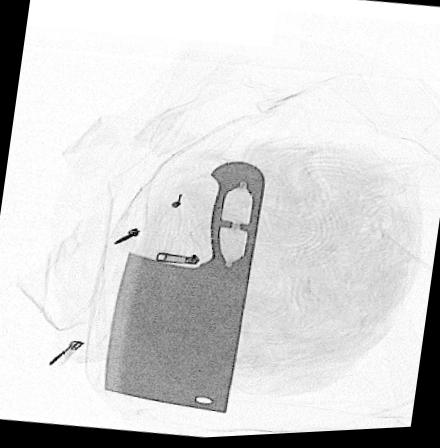Knife: (100, 161, 268, 416)
